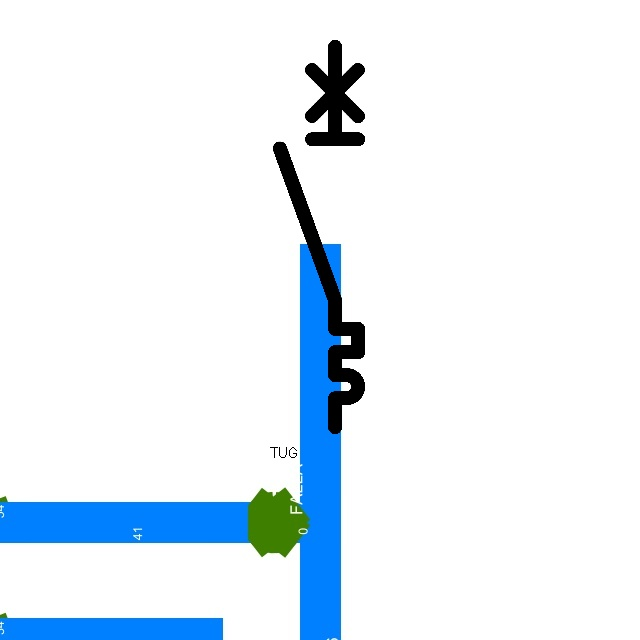interruptor_termomagnetico: (270, 37, 368, 437)
